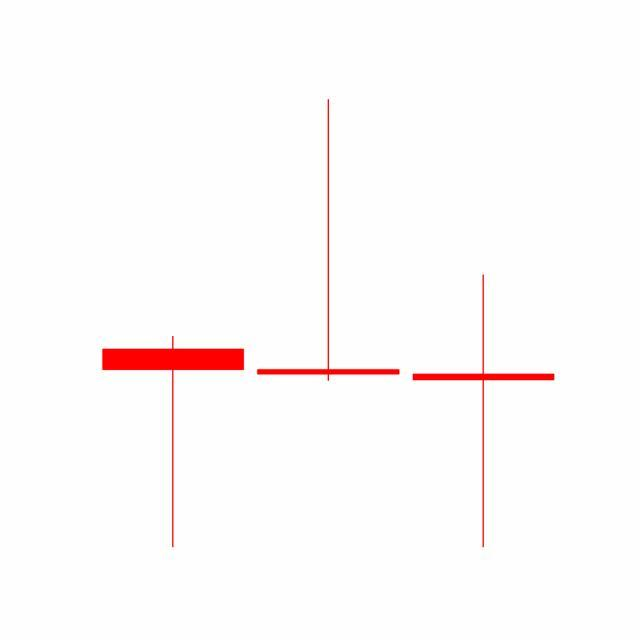Spinning Top: (250, 96, 407, 385)
